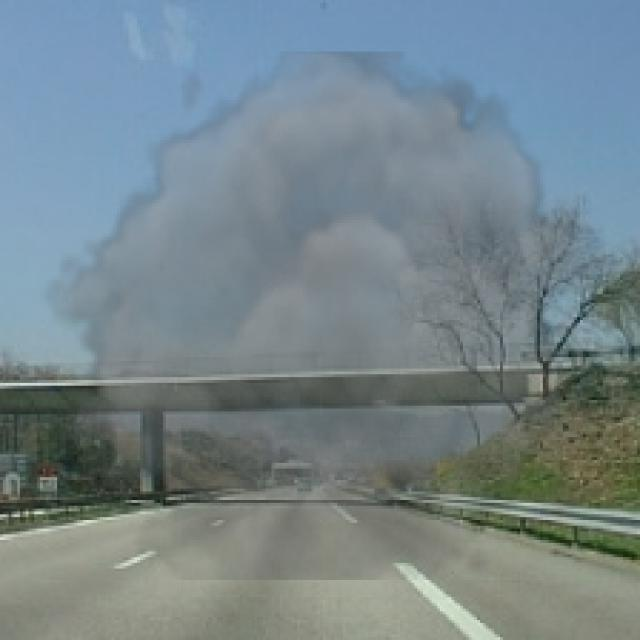smoke: (40, 51, 606, 580)
